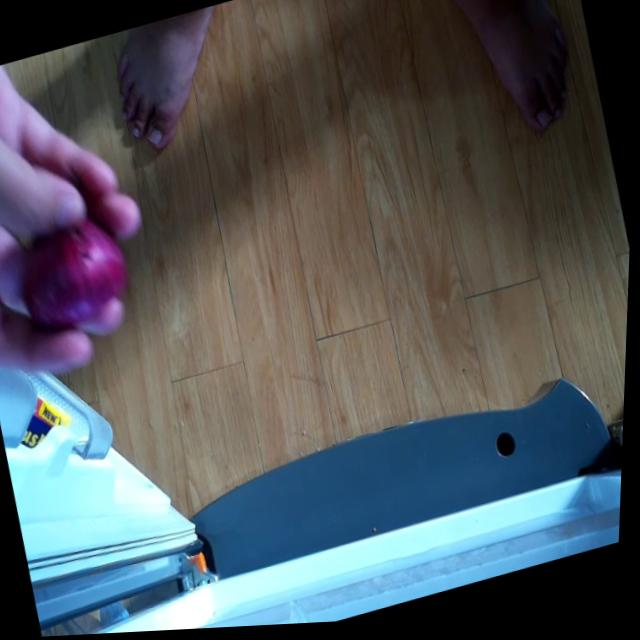onion: (17, 208, 144, 351)
